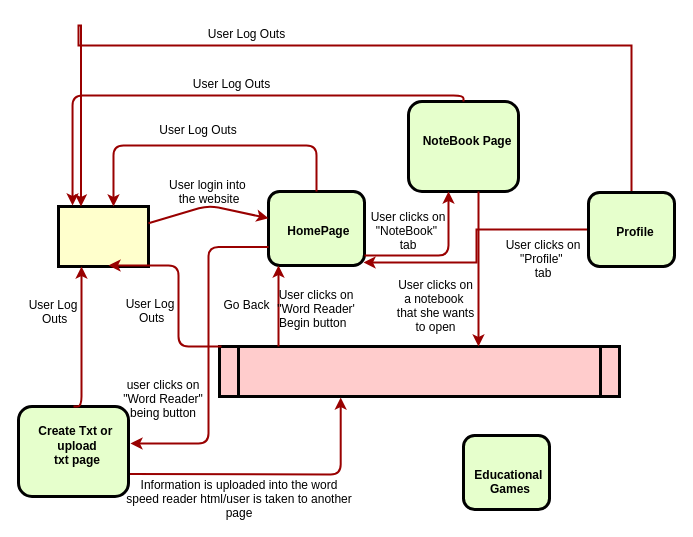
Some shapes in this 693 by 537 pixel diagram are drawn without their labels. Here are the shapes that lost their labels. From the top down, the centre of each, then its label:
the point at 103,236: Sign up with Google + Facebook
the point at 419,371: Word Reader Section
